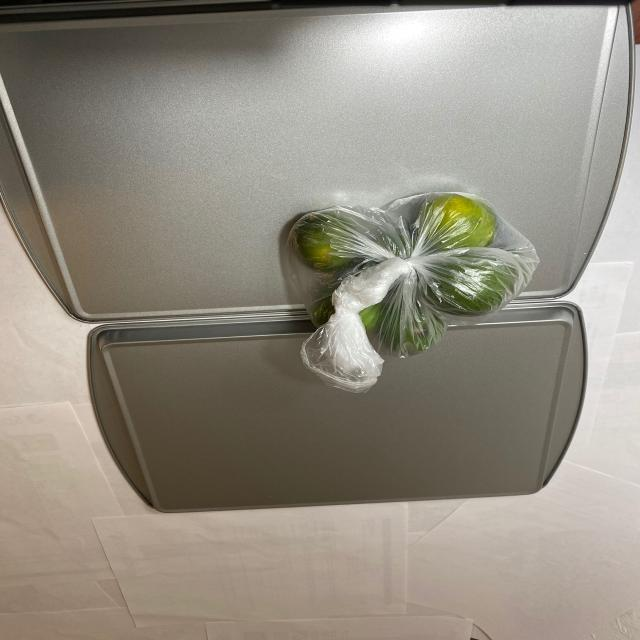lemon: (288, 190, 526, 351)
